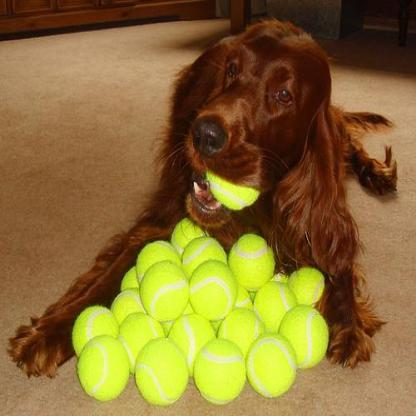Irish_setter: (5, 17, 400, 383)
